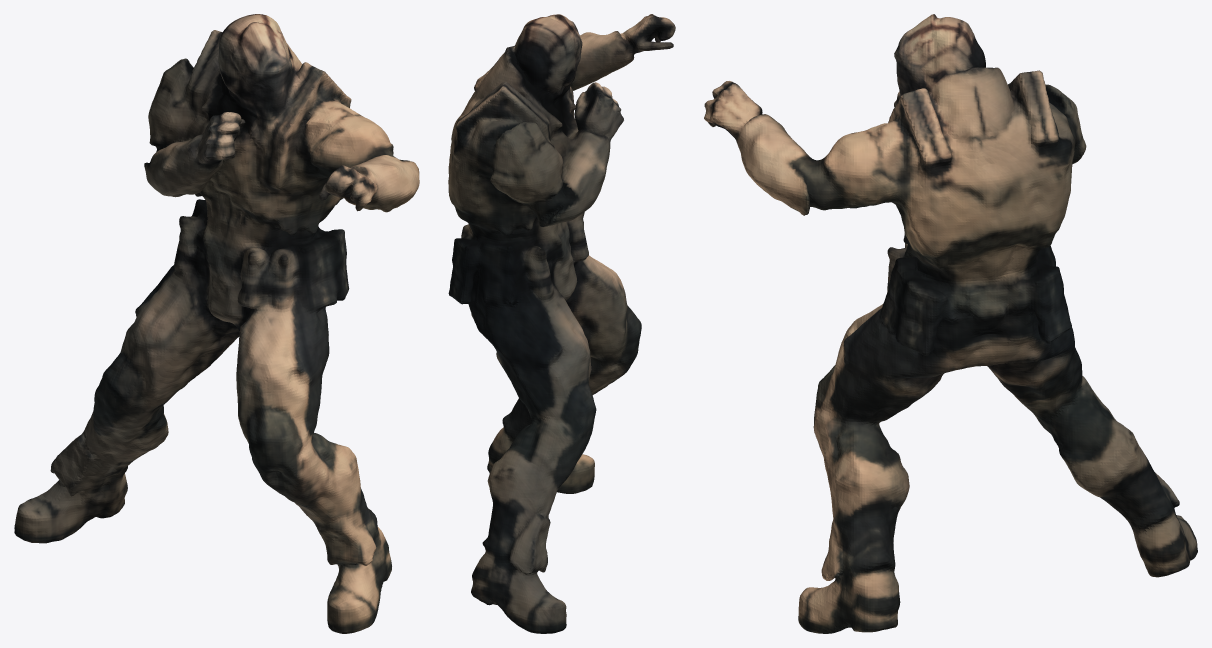
Rendered from hook_dgmesh.glb.
3 views of the same model, side by side, from view 1: azimuth 30°, elevation 25°; view 2: azimuth 150°, elevation 25°; view 3: azimuth 270°, elevation 25° (orthographic). The views are drawn at different scales.
Parts seen in each view (by area): view 1: frame_4; view 2: frame_4; view 3: frame_4.
Boxes of the visible parts, left/top/right/bottom form: frame_4: left=14, top=14, right=419, bottom=633; frame_4: left=448, top=14, right=675, bottom=633; frame_4: left=704, top=14, right=1197, bottom=633.
Size of the model in its own units: 0.885 by 2.13 by 1.61.
